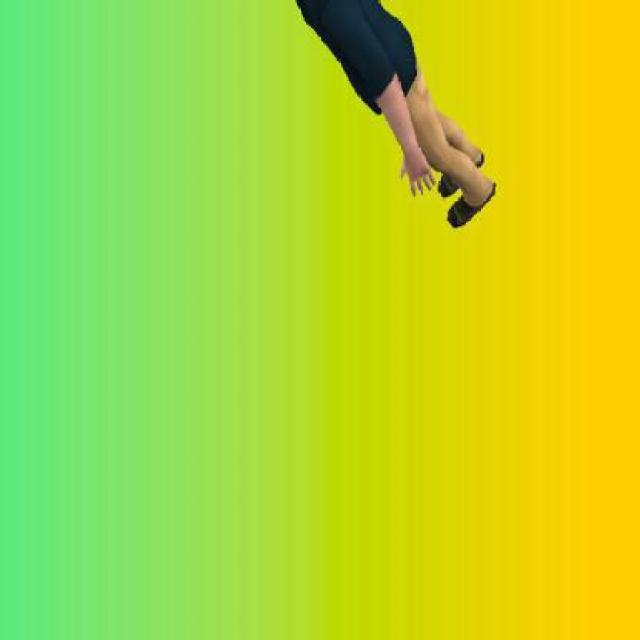Person: (296, 0, 500, 235)
